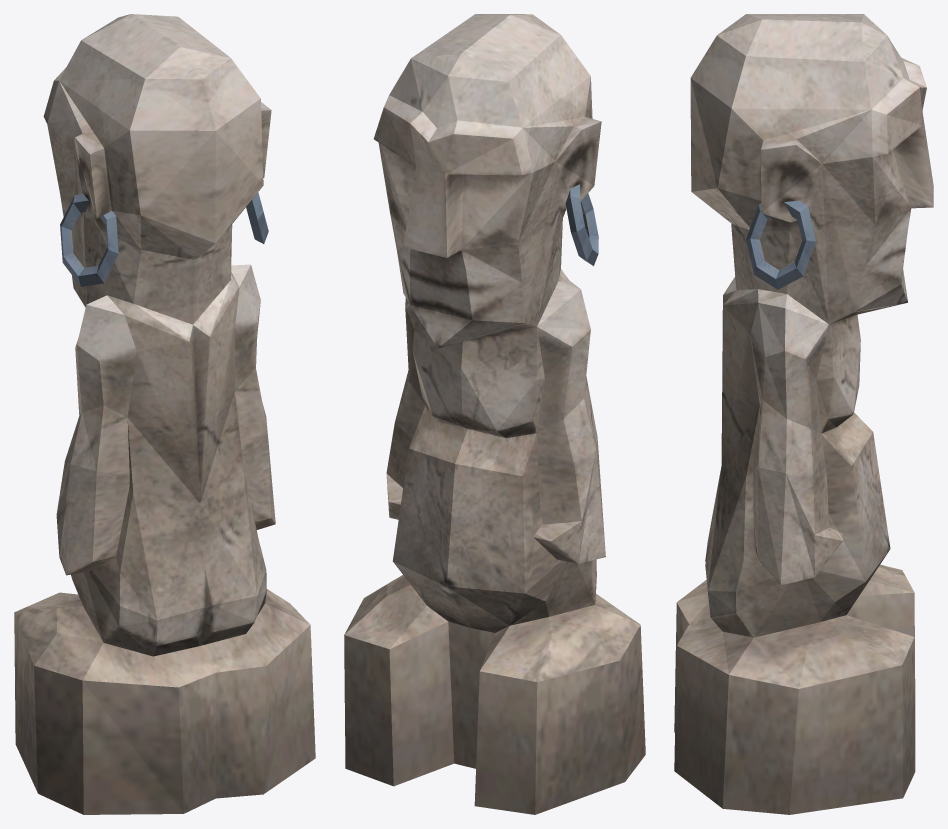
Rendered from thm_dant_totem_pole_l1.fbx.
The picture shows the model from 3 angles, left to right: view 1: azimuth 30°, elevation 25°; view 2: azimuth 150°, elevation 25°; view 3: azimuth 270°, elevation 25°; orthographic projection.
Parts seen in each view (by area): view 1: mesh_node; view 2: mesh_node; view 3: mesh_node.
Part boxes in pixels (left/top/right/bottom): mesh_node: left=14, top=14, right=315, bottom=814; mesh_node: left=344, top=14, right=645, bottom=814; mesh_node: left=674, top=14, right=933, bottom=814.
Bounding box in the file's own units: 2.58 × 6.95 × 2.23.
1 material, 1 textured.
